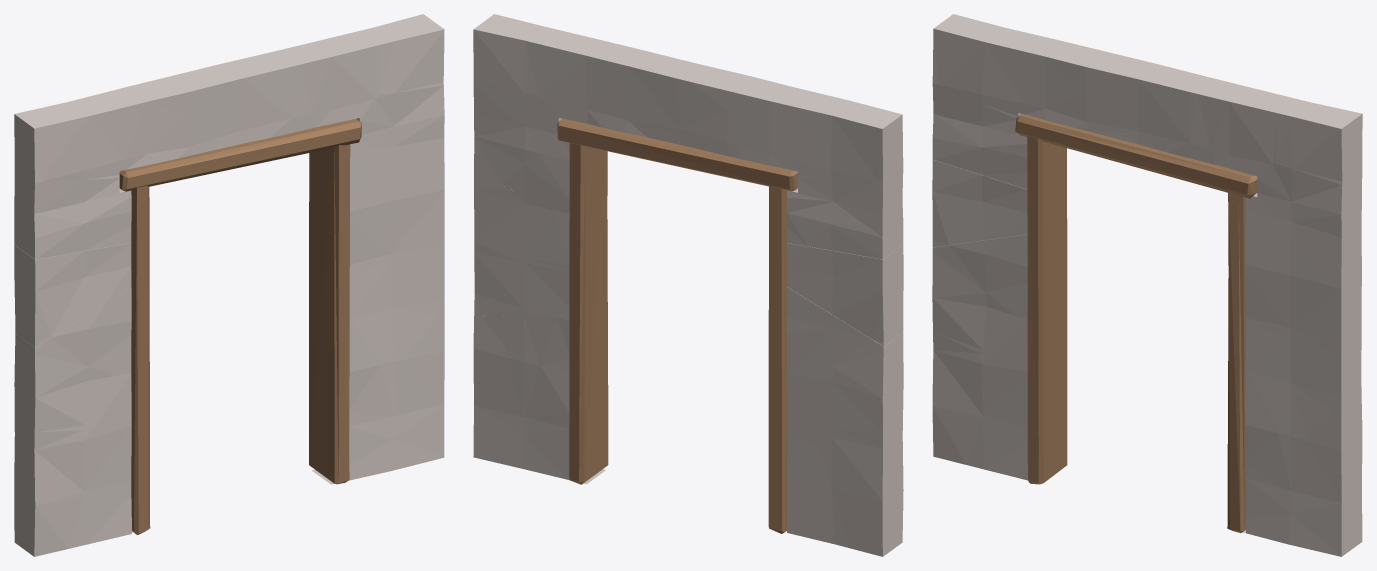
The model's file is PKF_PKX_Wall_Int_Door_v1.fbx.
3 renders of one model, left to right at view 1: azimuth 30°, elevation 25°; view 2: azimuth 150°, elevation 25°; view 3: azimuth 330°, elevation 25°, orthographic.
Visible parts, largest first — view 1: PKX_Wall_Int_Door_Chunk_21, PKX_Wall_Int_Door_Chunk_02, PKX_Wall_Int_Door_Chunk_14, PKX_Wall_Int_Door_Chunk_13, PKX_Wall_Int_Door_Chunk_10, PKX_Wall_Int_Door_Chunk_20, PKX_Wall_Int_Door_Chunk_12, PKX_Wall_Int_Door_Chunk_15, PKX_Wall_Int_Door_Chunk_09, PKX_Wall_Int_Door_Chunk_16, PKX_Wall_Int_Door_Chunk_06, PKX_Wall_Int_Door_Chunk_03 (+11 smaller); view 2: PKX_Wall_Int_Door_Chunk_21, PKX_Wall_Int_Door_Chunk_02, PKX_Wall_Int_Door_Chunk_14, PKX_Wall_Int_Door_Chunk_13, PKX_Wall_Int_Door_Chunk_10, PKX_Wall_Int_Door_Chunk_20, PKX_Wall_Int_Door_Chunk_09, PKX_Wall_Int_Door_Chunk_12, PKX_Wall_Int_Door_Chunk_15, PKX_Wall_Int_Door_Chunk_16, PKX_Wall_Int_Door_Chunk_06, PKX_Wall_Int_Door_Chunk_03 (+11 smaller); view 3: PKX_Wall_Int_Door_Chunk_20, PKX_Wall_Int_Door_Chunk_03, PKX_Wall_Int_Door_Chunk_12, PKX_Wall_Int_Door_Chunk_09, PKX_Wall_Int_Door_Chunk_14, PKX_Wall_Int_Door_Chunk_13, PKX_Wall_Int_Door_Chunk_07, PKX_Wall_Int_Door_Chunk_10, PKX_Wall_Int_Door_Chunk_15, PKX_Wall_Int_Door_Chunk_21, PKX_Wall_Int_Door_Chunk_16, PKX_Wall_Int_Door_Chunk_02 (+11 smaller).
Boxes of the visible parts, box(x1,y1,x2,y2) form: PKX_Wall_Int_Door_Chunk_21: box(309, 144, 350, 484); PKX_Wall_Int_Door_Chunk_02: box(14, 418, 100, 556); PKX_Wall_Int_Door_Chunk_14: box(14, 92, 125, 181); PKX_Wall_Int_Door_Chunk_13: box(14, 167, 131, 259); PKX_Wall_Int_Door_Chunk_10: box(14, 243, 131, 347); PKX_Wall_Int_Door_Chunk_20: box(131, 185, 150, 534); PKX_Wall_Int_Door_Chunk_12: box(354, 85, 444, 185); PKX_Wall_Int_Door_Chunk_15: box(209, 50, 315, 143); PKX_Wall_Int_Door_Chunk_09: box(349, 185, 444, 270); PKX_Wall_Int_Door_Chunk_16: box(280, 31, 379, 127); PKX_Wall_Int_Door_Chunk_06: box(14, 338, 111, 432); PKX_Wall_Int_Door_Chunk_03: box(387, 312, 444, 471); PKX_Wall_Int_Door_Chunk_21: box(569, 143, 608, 484); PKX_Wall_Int_Door_Chunk_02: box(818, 418, 903, 556); PKX_Wall_Int_Door_Chunk_14: box(791, 92, 903, 181); PKX_Wall_Int_Door_Chunk_13: box(787, 167, 903, 259); PKX_Wall_Int_Door_Chunk_10: box(787, 243, 903, 346); PKX_Wall_Int_Door_Chunk_20: box(768, 185, 787, 533); PKX_Wall_Int_Door_Chunk_09: box(474, 184, 569, 271); PKX_Wall_Int_Door_Chunk_12: box(473, 86, 565, 184); PKX_Wall_Int_Door_Chunk_15: box(602, 49, 709, 143); PKX_Wall_Int_Door_Chunk_16: box(539, 30, 638, 127); PKX_Wall_Int_Door_Chunk_06: box(806, 338, 903, 431); PKX_Wall_Int_Door_Chunk_03: box(473, 311, 531, 470); PKX_Wall_Int_Door_Chunk_20: box(1027, 135, 1067, 484); PKX_Wall_Int_Door_Chunk_03: box(1283, 396, 1362, 556); PKX_Wall_Int_Door_Chunk_12: box(1251, 163, 1362, 284); PKX_Wall_Int_Door_Chunk_09: box(1245, 270, 1361, 353); PKX_Wall_Int_Door_Chunk_14: box(932, 14, 1041, 118); PKX_Wall_Int_Door_Chunk_13: box(932, 82, 1027, 189); PKX_Wall_Int_Door_Chunk_07: box(1245, 324, 1361, 412); PKX_Wall_Int_Door_Chunk_10: box(932, 160, 1027, 247); PKX_Wall_Int_Door_Chunk_15: box(1126, 61, 1216, 164); PKX_Wall_Int_Door_Chunk_21: box(1227, 191, 1246, 533); PKX_Wall_Int_Door_Chunk_16: box(1197, 79, 1295, 174); PKX_Wall_Int_Door_Chunk_02: box(932, 332, 997, 464).
Bounding box in the file's own units: 200 × 200 × 25.67.
